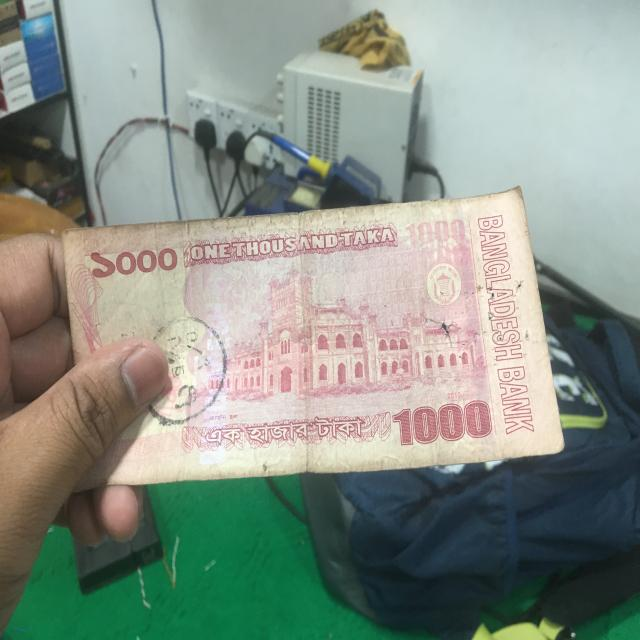Taka: (66, 224, 536, 457)
